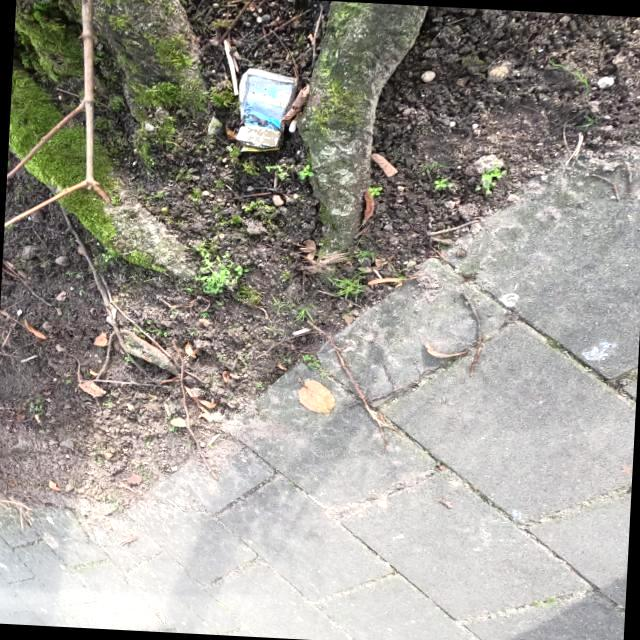Paper: (233, 66, 299, 154)
